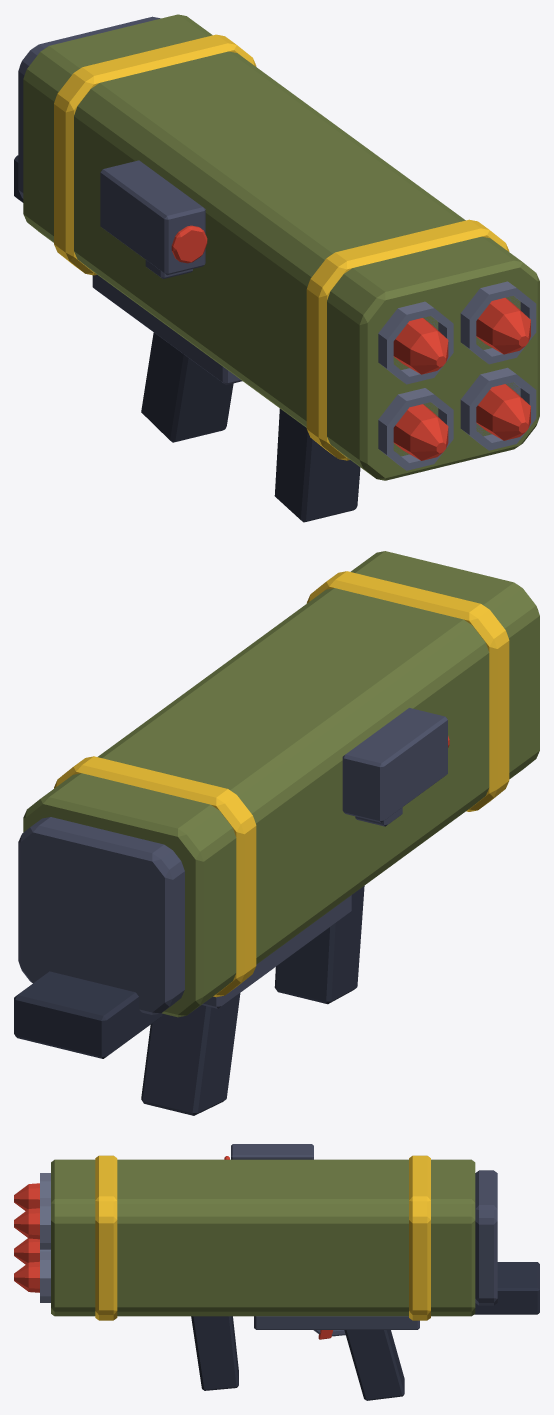
The model's file is myw_quadrocketlauncher.glb.
3 views of the same model, one above another, from view 1: azimuth 30°, elevation 25°; view 2: azimuth 150°, elevation 25°; view 3: azimuth 270°, elevation 25° (orthographic). The views are drawn at different scales.
Parts seen in each view (by area): view 1: Pod, Rockets, Grips, Sight; view 2: Pod, Grips, Sight; view 3: Pod, Grips, Rockets, Sight.
Boxes of the visible parts, bbox=[...] form: Pod: bbox=[18, 14, 539, 480]; Rockets: bbox=[378, 281, 536, 470]; Grips: bbox=[14, 155, 360, 522]; Sight: bbox=[100, 160, 207, 278]; Pod: bbox=[18, 551, 539, 1017]; Grips: bbox=[14, 886, 364, 1115]; Sight: bbox=[342, 708, 449, 826]; Pod: bbox=[51, 1155, 497, 1320]; Grips: bbox=[191, 1262, 539, 1400]; Rockets: bbox=[14, 1173, 50, 1302]; Sight: bbox=[224, 1144, 313, 1159].
Bounding box in the file's own units: 0.92 × 1.3 × 2.85.
